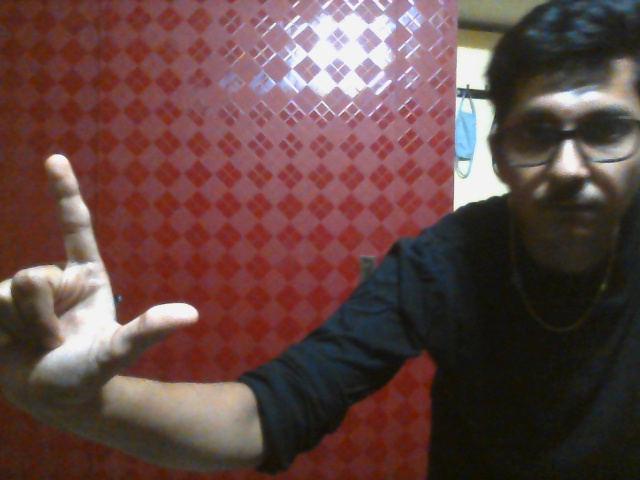L: (4, 154, 199, 383)
